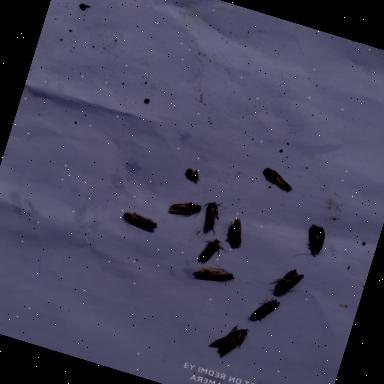pbw: (203, 316, 252, 366), (289, 218, 334, 268), (192, 192, 234, 243), (266, 261, 307, 302), (192, 231, 232, 270), (191, 258, 239, 290), (244, 290, 282, 329), (258, 164, 298, 195), (117, 206, 161, 234), (220, 213, 252, 251), (166, 192, 204, 223)
